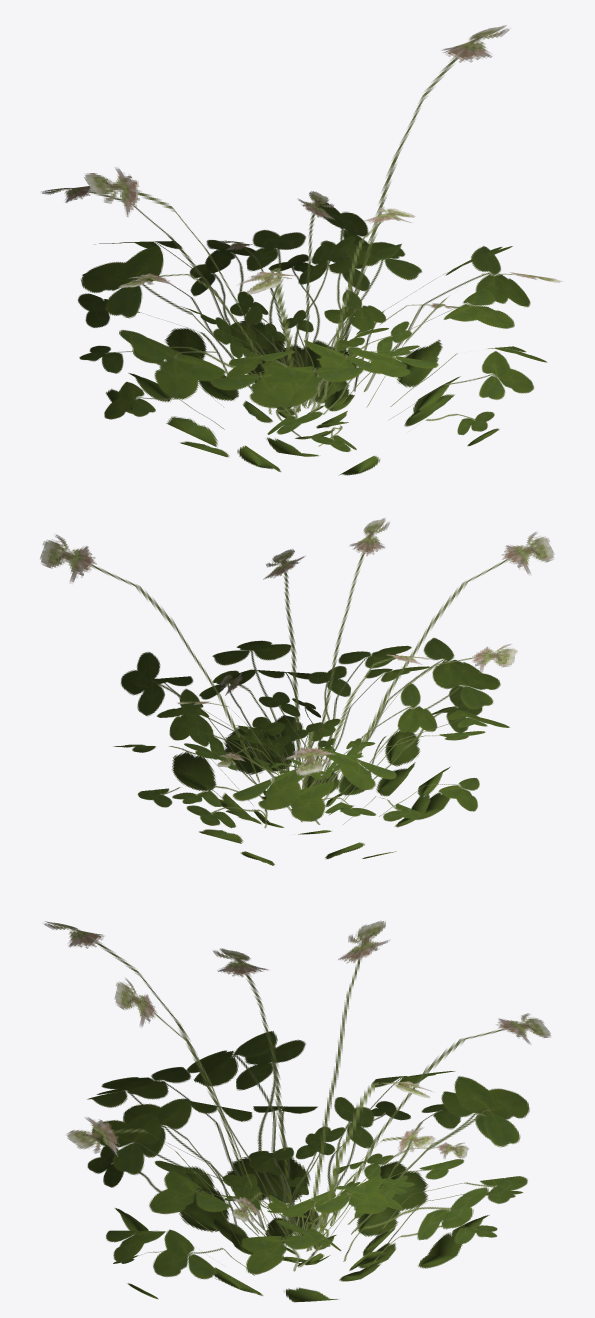
The model's file is WhiteClover_A.glb.
3 views of the same model, one above another, from view 1: azimuth 30°, elevation 25°; view 2: azimuth 150°, elevation 25°; view 3: azimuth 270°, elevation 25° (orthographic). The views are drawn at different scales.
Parts seen in each view (by area): view 1: LOD0.005; view 2: LOD0.005; view 3: LOD0.005.
Boxes of the visible parts, x1=… form: LOD0.005: x1=41, y1=25, x2=563, y2=475; LOD0.005: x1=40, y1=518, x2=554, y2=865; LOD0.005: x1=44, y1=920, x2=550, y2=1302.
Size of what is drawn, in the model's own units: 0.9387 by 0.5414 by 0.9091.
1 material, 1 textured.
